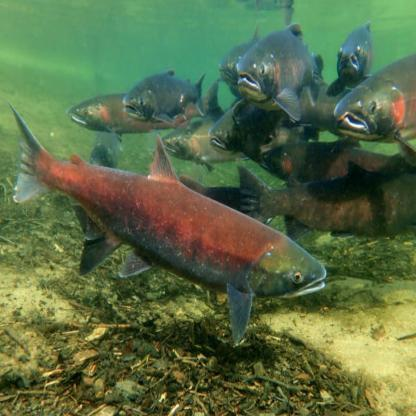sockeye: (27, 132, 322, 312)
sockeye-group: (136, 32, 416, 202)
